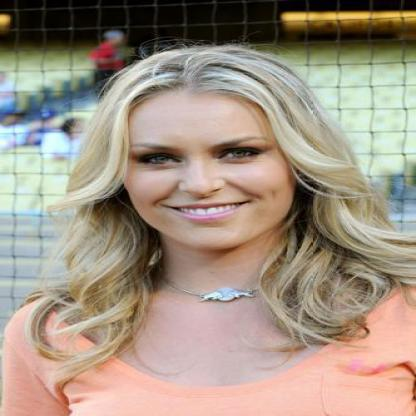long-hair: (35, 251, 404, 319)
